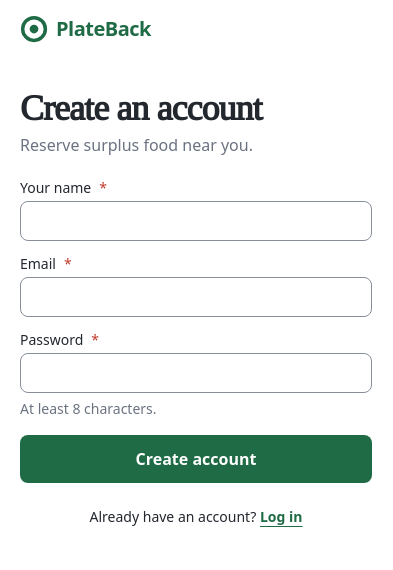
Scenario: RegisterPage › shows the server's error next to the email field
The width and height of the screenshot is (393, 570).
Expected: the heading "Create an account" is shown, [20, 89, 262, 129]
Step 1. Type "Maya" into the field labelled "Your name *" → (196, 221), box [20, 201, 372, 241]
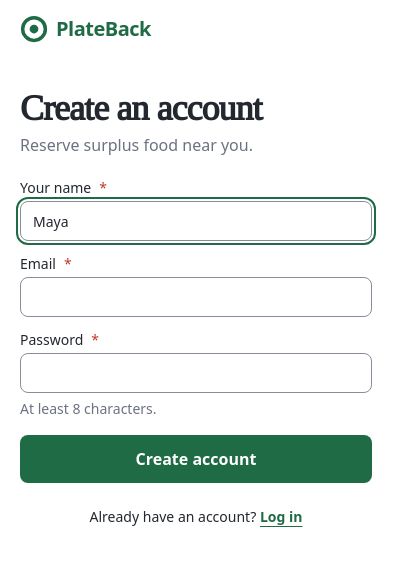
Step 2. Type "maya@example.com" into the field labelled "Email *" → (196, 297), box [20, 277, 372, 317]
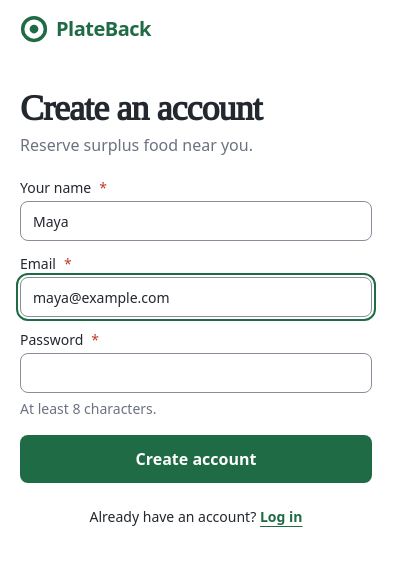
Step 3. Type "longpassword" into the password field labelled "Password *" → (196, 373), box [20, 353, 372, 393]
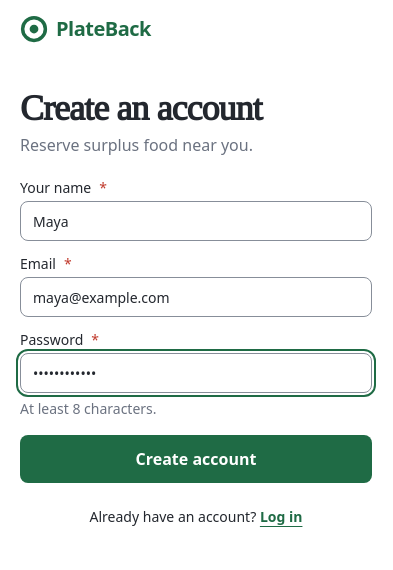
Step 4. Click the button "Create account" → (196, 459), box [20, 435, 372, 483]
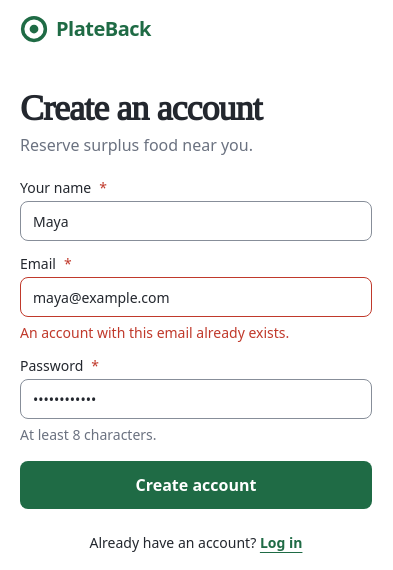
Now the text "An account with this email already exists." is shown, box [20, 323, 289, 342]
